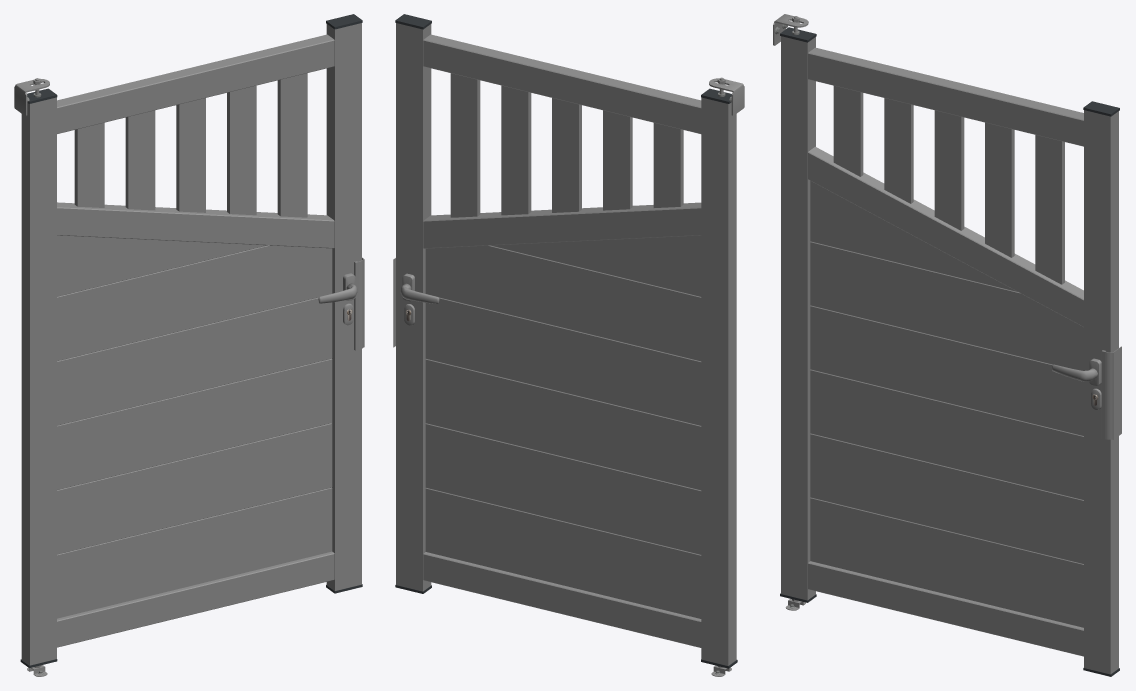
3 renders of one model, left to right at view 1: azimuth 30°, elevation 25°; view 2: azimuth 150°, elevation 25°; view 3: azimuth 330°, elevation 25°, orthographic.
Visible parts, largest first — view 1: Shape107412643, Line025, Line024, Line026, Line023, Line027, Shape107412638, Shape107411735, Shape107412652, Shape107411734, Line028, Rectangle079 (+6 smaller); view 2: Shape107412643, Line025, Line024, Line026, Line023, Line027, Shape107412638, Shape107411735, Shape107412652, Shape107411734, Line028, Rectangle079 (+5 smaller); view 3: Line025, Line024, Line023, Shape107412638, Line026, Line027, Shape107412643, Shape107411735, Shape107412652, Shape107411734, Line028, Rectangle079 (+5 smaller).
Part boxes in pixels (left/top/right/bottom): Shape107412643: left=21, top=97, right=56, bottom=665; Line025: left=57, top=358, right=332, bottom=489; Line024: left=57, top=423, right=332, bottom=554; Line026: left=57, top=297, right=332, bottom=425; Line023: left=57, top=487, right=332, bottom=618; Line027: left=57, top=245, right=332, bottom=361; Shape107412638: left=326, top=23, right=361, bottom=590; Shape107411735: left=57, top=34, right=334, bottom=133; Shape107412652: left=57, top=202, right=334, bottom=248; Shape107411734: left=57, top=551, right=334, bottom=647; Line028: left=57, top=235, right=267, bottom=296; Rectangle079: left=277, top=73, right=307, bottom=217; Shape107412643: left=701, top=97, right=736, bottom=665; Line025: left=425, top=359, right=701, bottom=490; Line024: left=425, top=423, right=701, bottom=554; Line026: left=425, top=297, right=701, bottom=425; Line023: left=425, top=488, right=701, bottom=618; Line027: left=425, top=245, right=701, bottom=361; Shape107412638: left=396, top=23, right=431, bottom=591; Shape107411735: left=423, top=34, right=701, bottom=133; Shape107412652: left=423, top=202, right=701, bottom=248; Shape107411734: left=423, top=552, right=701, bottom=647; Line028: left=491, top=235, right=701, bottom=296; Rectangle079: left=450, top=73, right=480, bottom=217; Line025: left=810, top=369, right=1083, bottom=499; Line024: left=810, top=433, right=1083, bottom=563; Line023: left=810, top=497, right=1083, bottom=627; Shape107412638: left=1084, top=110, right=1118, bottom=674; Line026: left=810, top=305, right=1083, bottom=435; Line027: left=810, top=241, right=1083, bottom=370; Shape107412643: left=781, top=36, right=815, bottom=600; Shape107411735: left=808, top=47, right=1083, bottom=146; Shape107412652: left=808, top=146, right=1083, bottom=326; Shape107411734: left=808, top=561, right=1083, bottom=656; Line028: left=810, top=181, right=1017, bottom=291; Rectangle079: left=1035, top=135, right=1064, bottom=284.
Bounding box in the file's own units: 1015 × 1688 × 152.
Materials: 7 (4 with a texture image).
